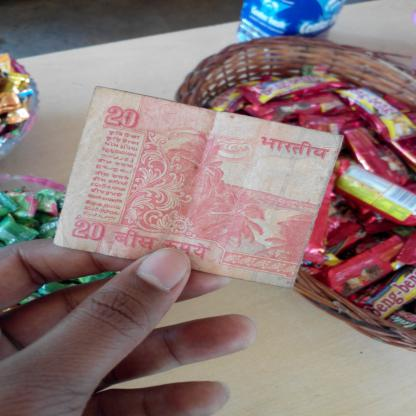Old20Back: (62, 94, 337, 274)
